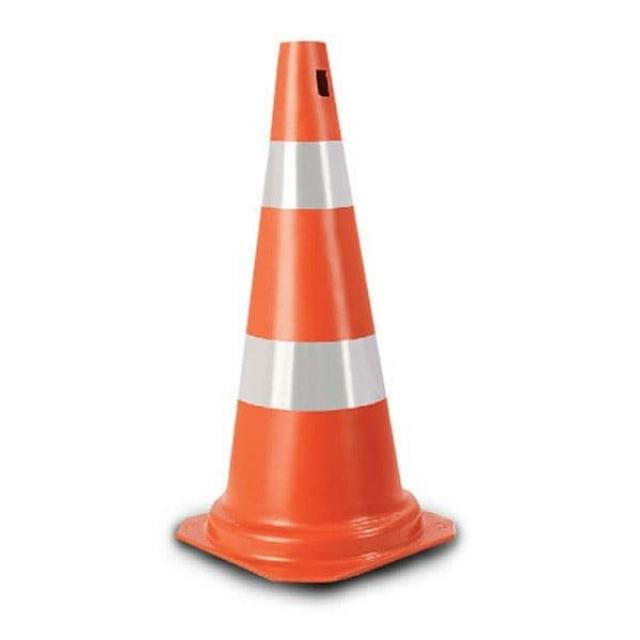cone: (162, 29, 464, 582)
